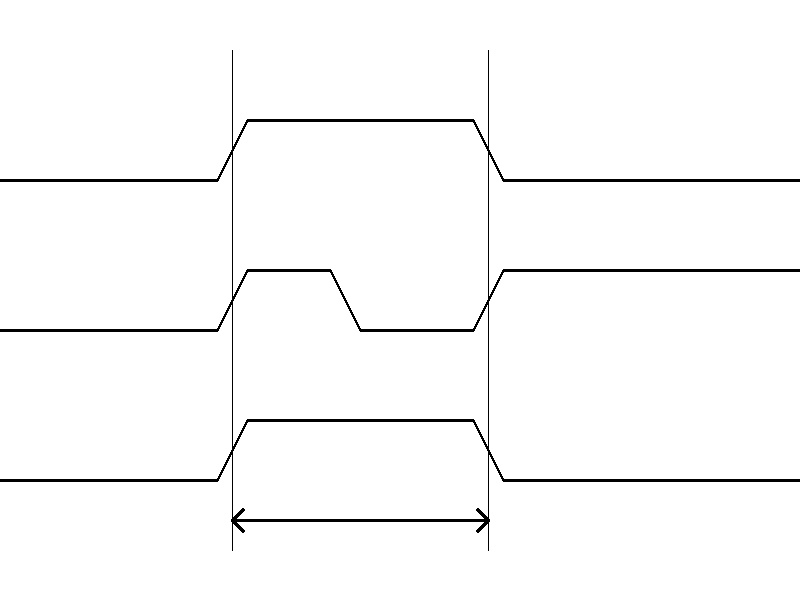double_arrow: (232, 505, 488, 535)
